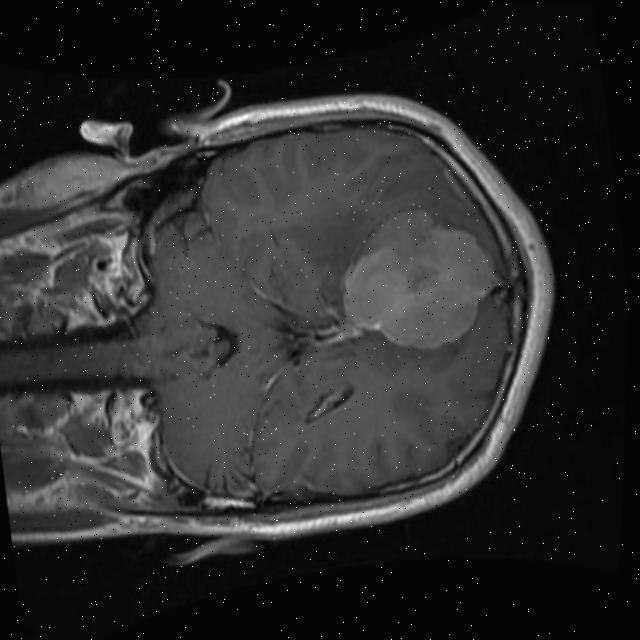Meningioma: (327, 196, 511, 361)
